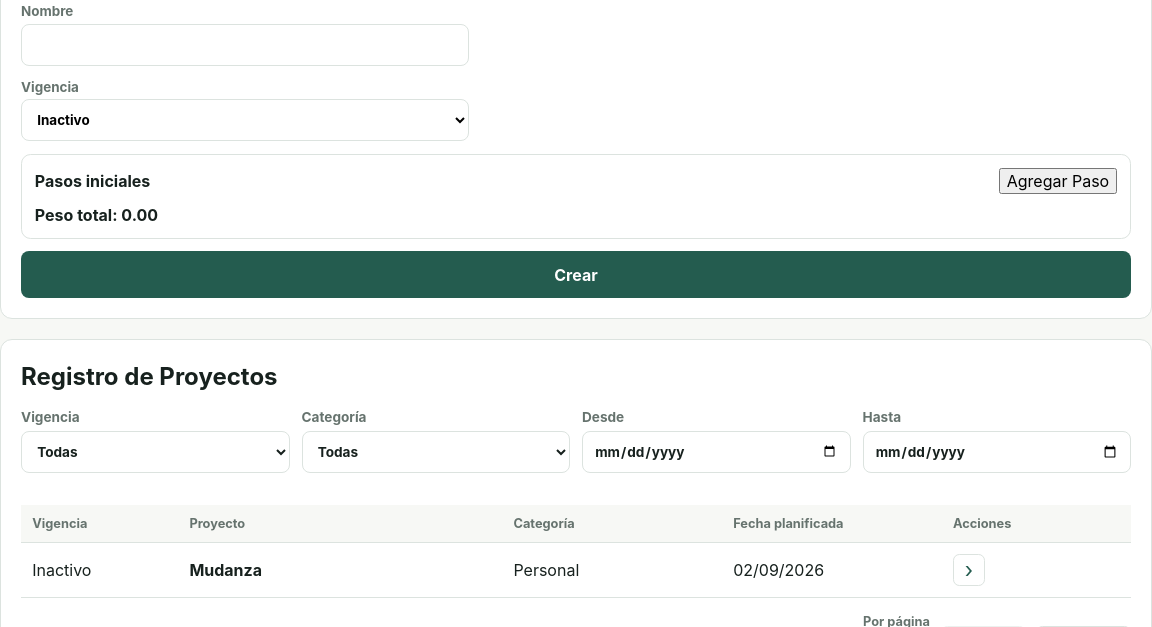
Scenario: PlanningProjectsPage › uses Project lock_version and clears stale editing after 409
(page scrolled)
Click the button named "Ver estructura de Mudanza": (969, 570) x1=953 y1=554 x2=985 y2=586
(page scrolled)
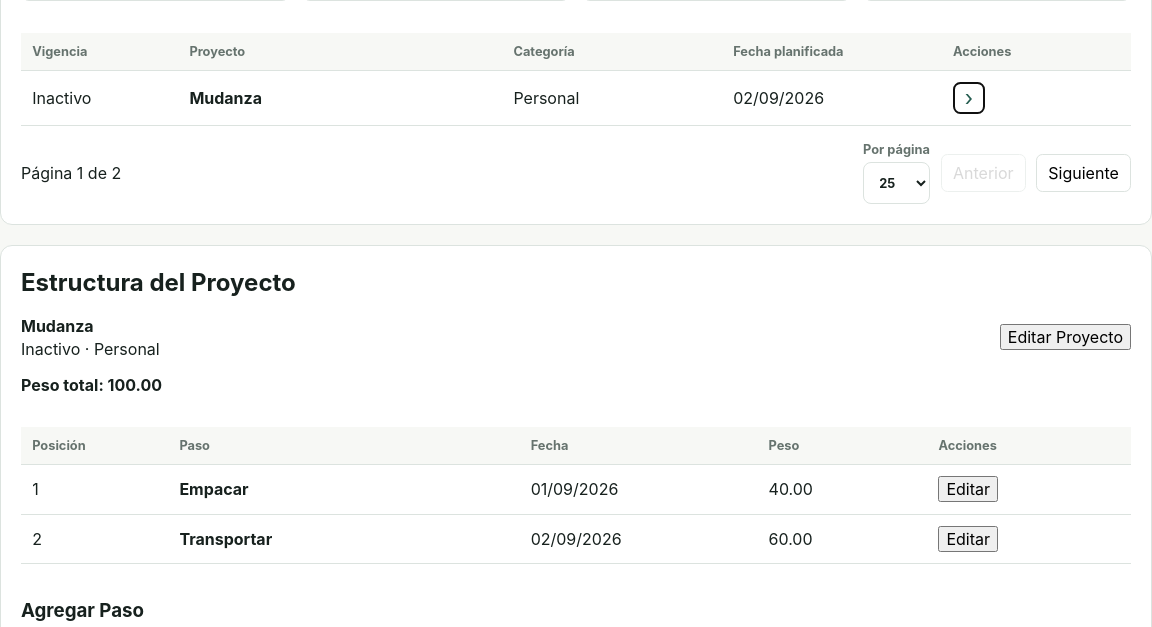
Click the button "Editar Proyecto": (1065, 337) x1=1000 y1=324 x2=1131 y2=350
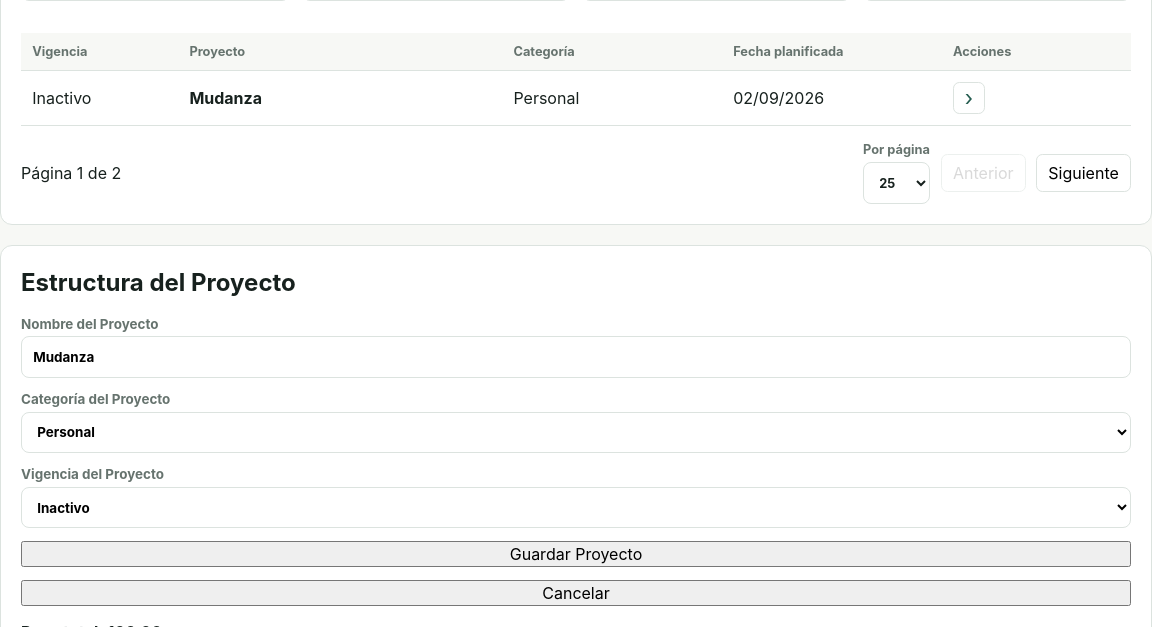
Click the button "Guardar Proyecto": (576, 554) x1=21 y1=541 x2=1131 y2=567
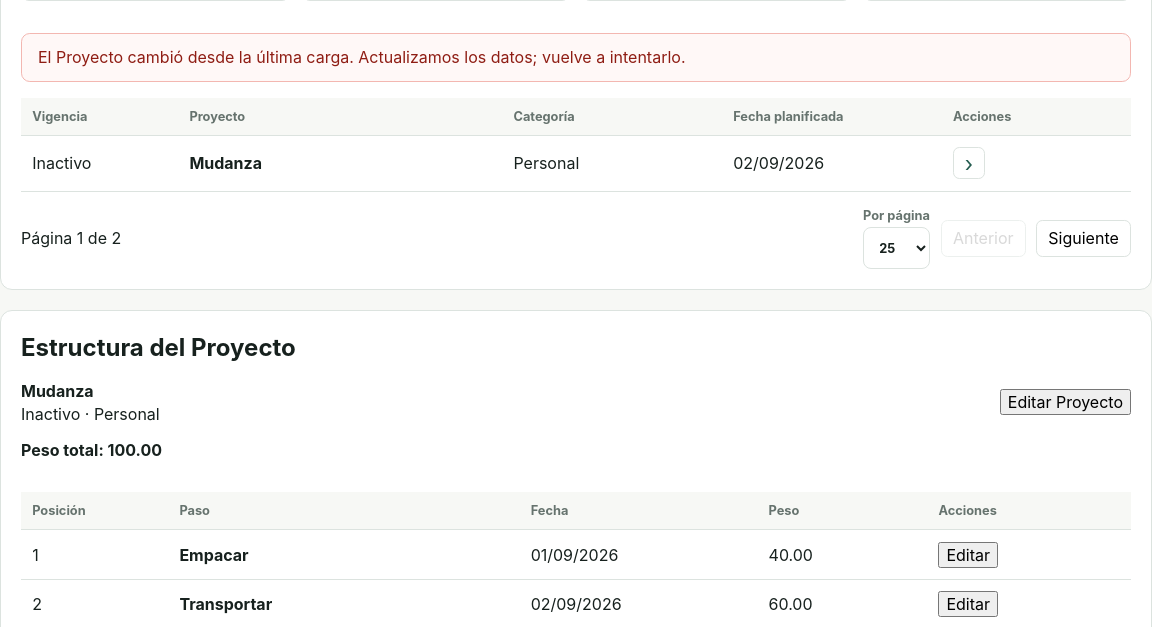
Expected: the message shows "cambió desde la última carga", x1=38 y1=47 x2=686 y2=67
Expected: the label labelled "Nombre del Proyecto" is gone
